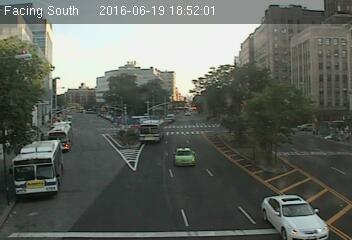neg: (227, 85, 265, 136), (30, 56, 64, 102), (262, 144, 288, 180), (131, 115, 157, 149), (150, 54, 176, 88), (23, 134, 47, 166), (179, 145, 202, 176), (304, 63, 327, 93), (92, 188, 114, 217), (66, 155, 87, 183), (96, 49, 116, 76), (99, 123, 118, 149), (198, 203, 214, 225), (208, 46, 221, 63)
